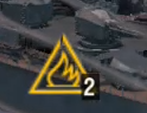2fire: (24, 55, 101, 101)
